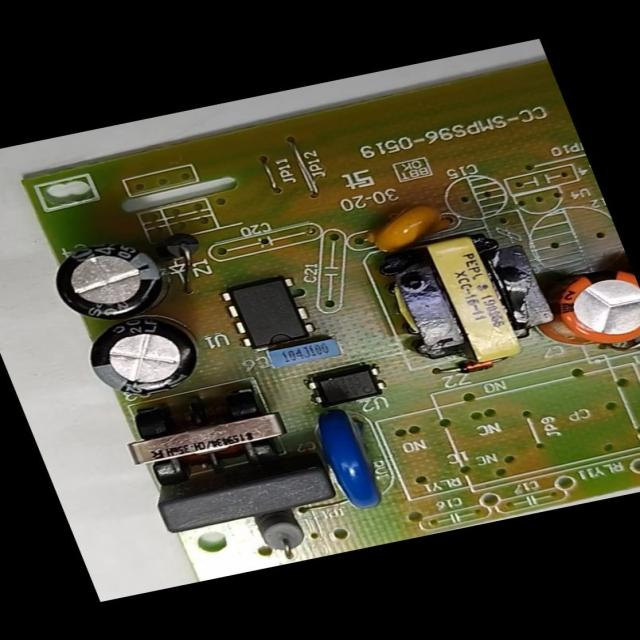Cap1: (514, 253, 639, 363)
Cap3: (72, 306, 216, 405)
Cap4: (34, 226, 192, 331)
MOSFET: (214, 268, 324, 354)
Mov: (299, 396, 405, 525)
Resistor: (248, 504, 316, 565)
Transformer: (362, 221, 567, 381), (104, 370, 304, 500)
